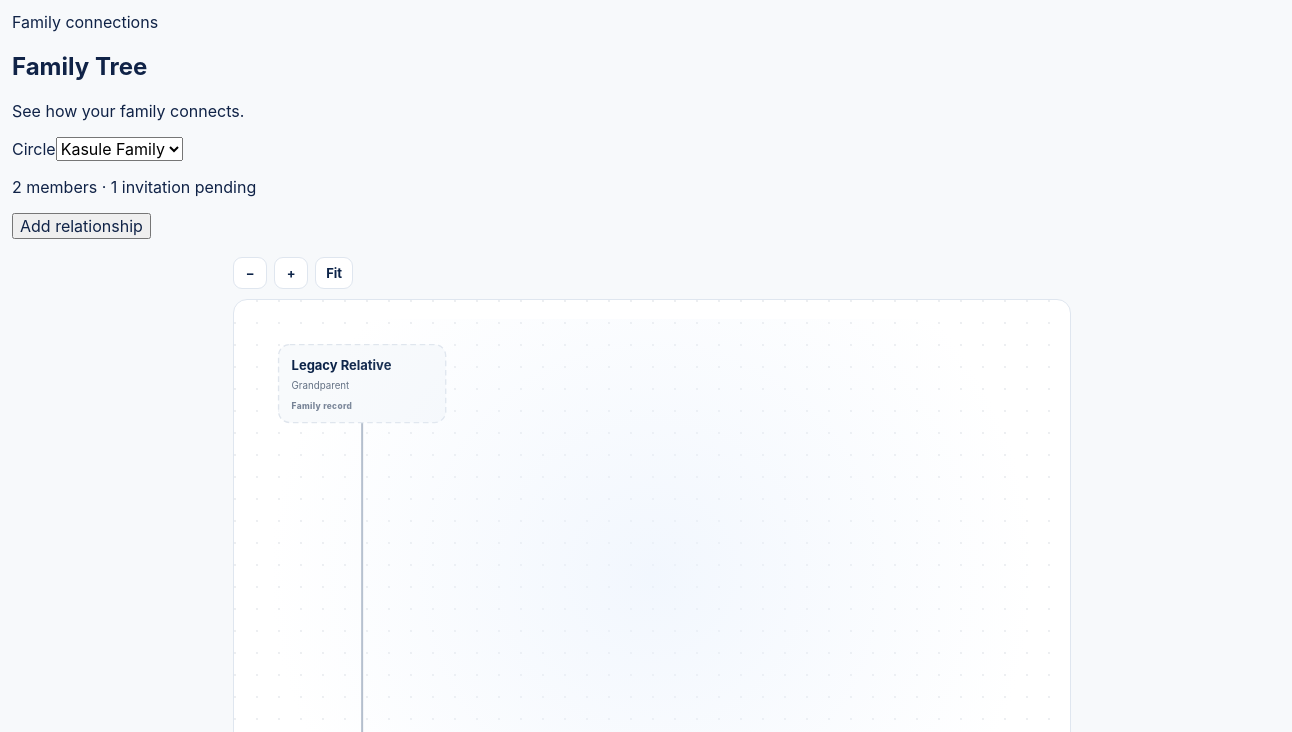
FamilyTreePage relationship creation › shows a sentence-like add form for the Circle owner
Click the button "Add relationship": click(81, 226) [12,213,151,239]
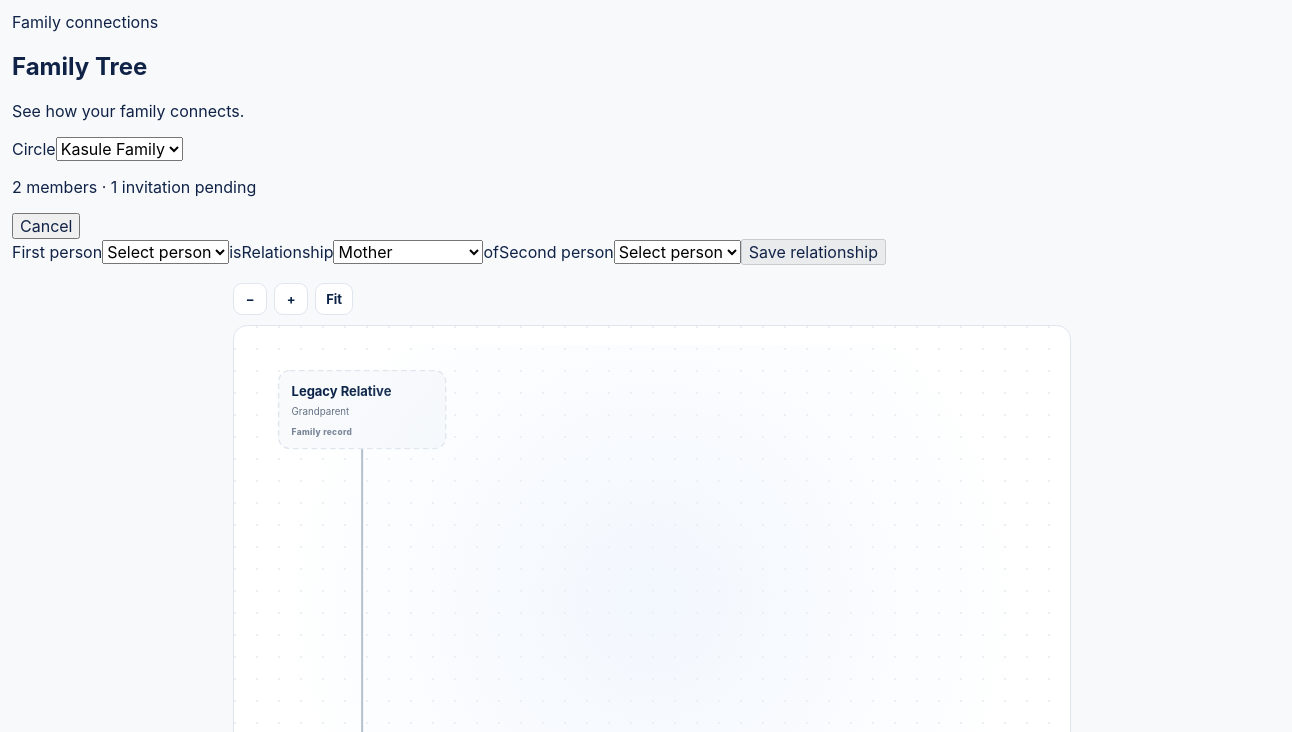
Expected: the dropdown labelled "First person" is shown, [102,240,229,264]
Expected: the dropdown labelled "Relationship" is shown, [334,240,484,264]
Expected: the dropdown labelled "Second person" is shown, [614,240,741,264]
